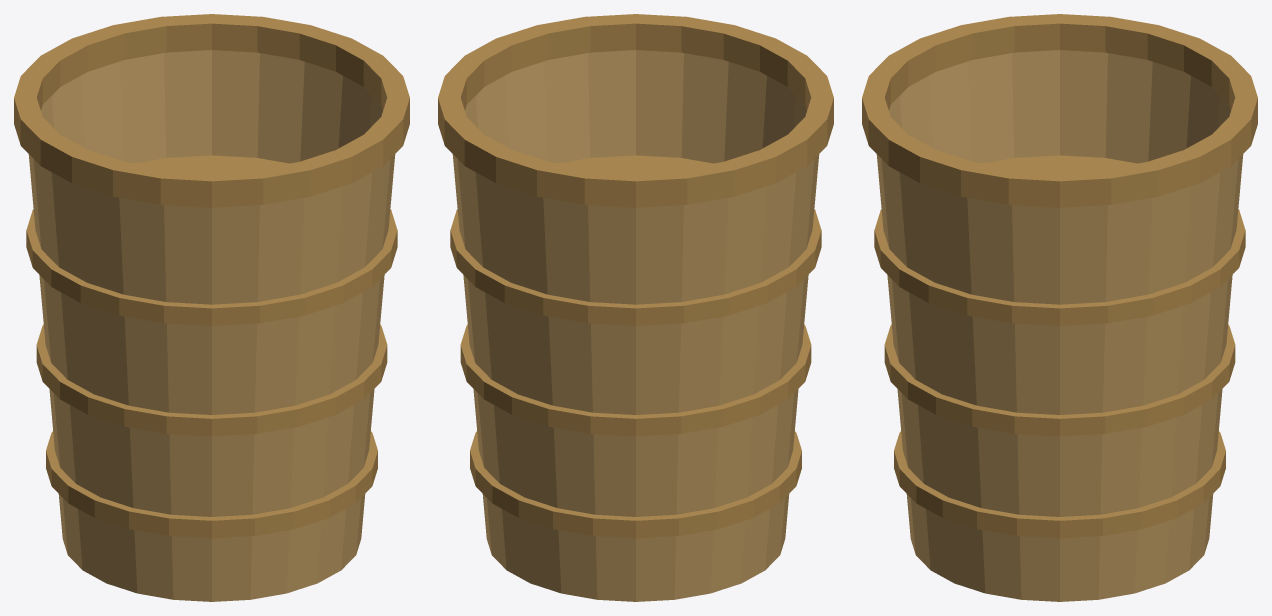
File: Basket_Tall.fbx
The picture shows the model from 3 angles, left to right: view 1: azimuth 30°, elevation 25°; view 2: azimuth 150°, elevation 25°; view 3: azimuth 270°, elevation 25°; orthographic projection.
Visible parts, largest first — view 1: Basket_Body, Basket_Rim, Basket_Band_2, Basket_Band_1, Basket_Band_0; view 2: Basket_Body, Basket_Rim, Basket_Band_2, Basket_Band_1, Basket_Band_0; view 3: Basket_Body, Basket_Rim, Basket_Band_2, Basket_Band_1, Basket_Band_0.
Boxes of the visible parts, bbox=[...] form: Basket_Body: bbox=[28, 50, 395, 601]; Basket_Rim: bbox=[14, 14, 409, 207]; Basket_Band_2: bbox=[26, 155, 397, 325]; Basket_Band_1: bbox=[36, 325, 387, 436]; Basket_Band_0: bbox=[46, 431, 377, 538]; Basket_Body: bbox=[452, 50, 819, 601]; Basket_Rim: bbox=[438, 14, 833, 207]; Basket_Band_2: bbox=[450, 155, 821, 325]; Basket_Band_1: bbox=[460, 325, 811, 436]; Basket_Band_0: bbox=[470, 431, 801, 538]; Basket_Body: bbox=[876, 50, 1243, 601]; Basket_Rim: bbox=[862, 14, 1257, 207]; Basket_Band_2: bbox=[874, 155, 1245, 325]; Basket_Band_1: bbox=[884, 325, 1235, 436]; Basket_Band_0: bbox=[894, 431, 1225, 538].
Size of the model in its own units: 122 by 150 by 122.
